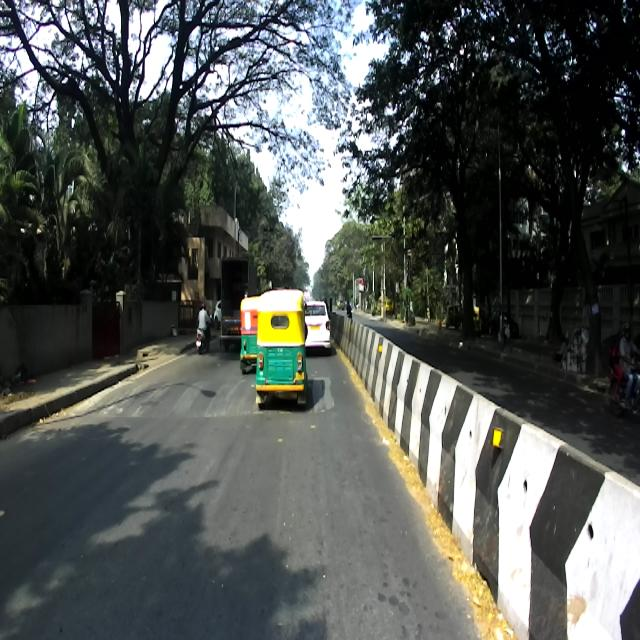auto ahead at: (255, 287, 308, 408)
